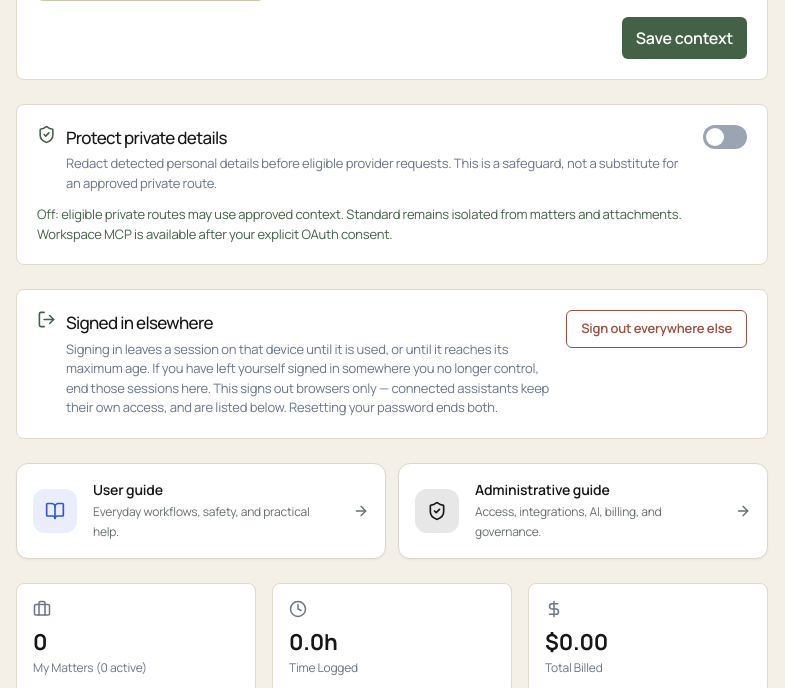
Scenario: signing out everywhere else › surfaces a failure rather than implying the sessions ended
(page scrolled)
Click the button "Sign out everywhere else".
click(657, 329)  # box [566,310,747,348]
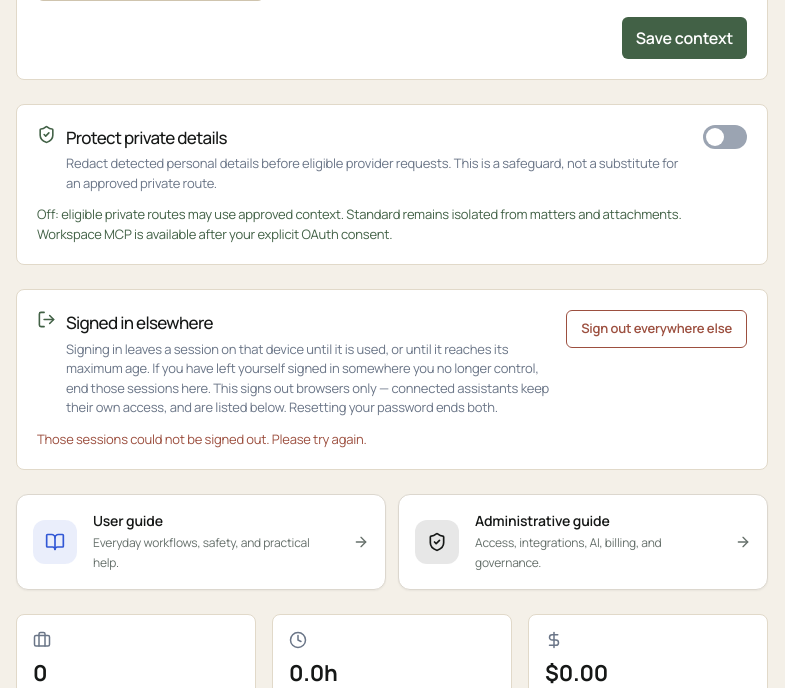
Expected: the text "Those sessions could not be signed out. Please try again." is shown, [37,430,367,448]
